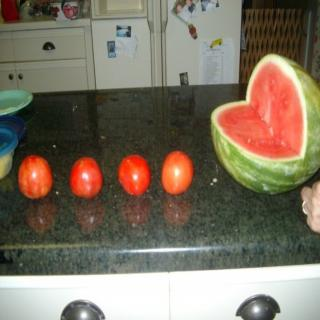Watermelon: (209, 53, 320, 196)
